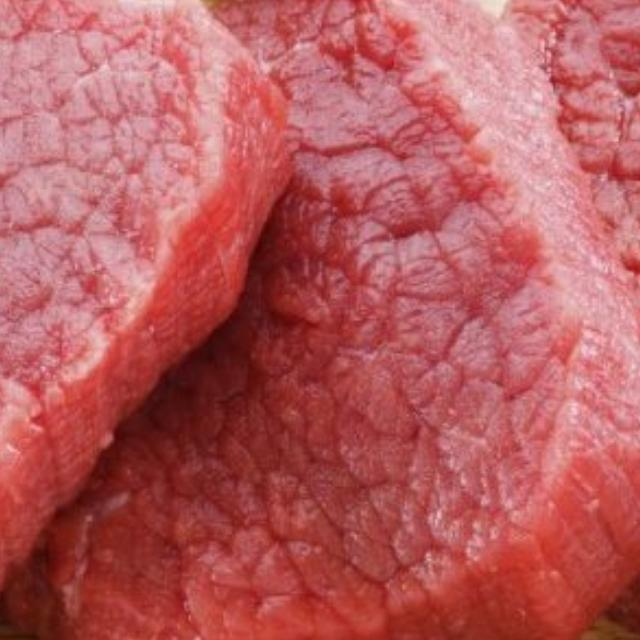beef: (0, 0, 640, 640), (0, 0, 308, 619), (401, 0, 640, 640)
